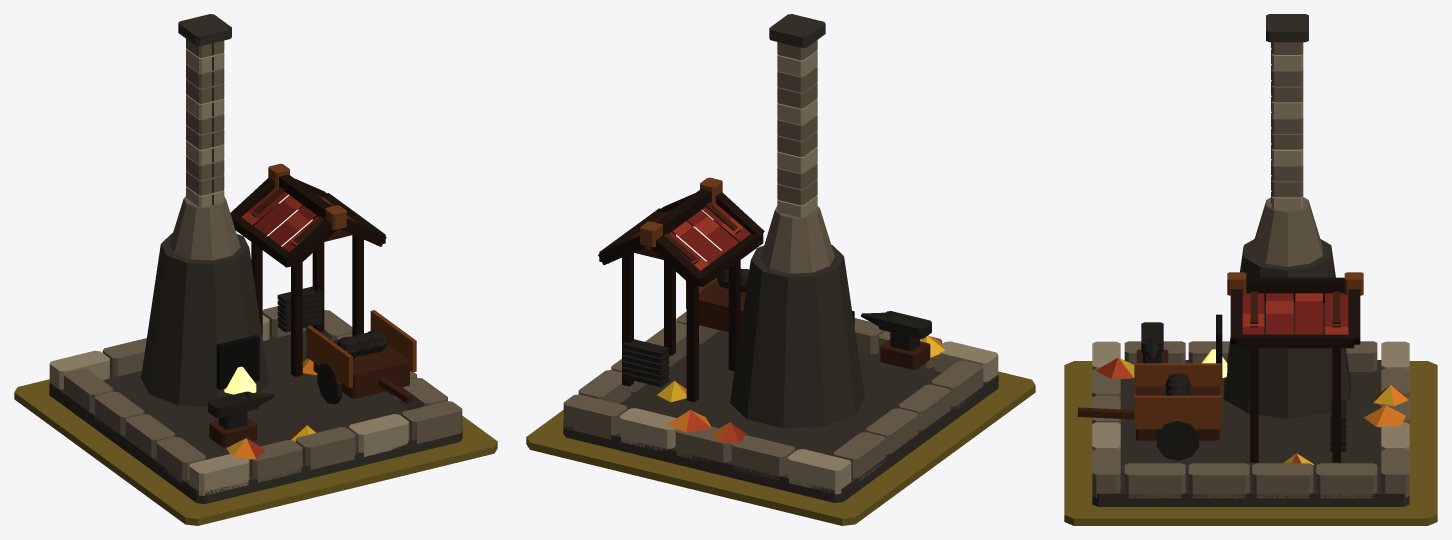
The model's file is smeltery_t6.glb.
The picture shows the model from 3 angles, left to right: view 1: azimuth 30°, elevation 25°; view 2: azimuth 150°, elevation 25°; view 3: azimuth 270°, elevation 25°; orthographic projection. The views are drawn at different scales.
Visible parts, largest first — view 1: MMR | smeltery | T06 Architecture.001, MMR | smeltery | Tier 06 Ground.001, MMR | smeltery | T06 Autumn Dressing.001, MMR | smeltery | T06 Flame Glow.001; view 2: MMR | smeltery | T06 Architecture.001, MMR | smeltery | Tier 06 Ground.001, MMR | smeltery | T06 Autumn Dressing.001; view 3: MMR | smeltery | T06 Architecture.001, MMR | smeltery | Tier 06 Ground.001, MMR | smeltery | T06 Autumn Dressing.001.
Boxes of the visible parts, bbox=[...] form: MMR | smeltery | T06 Architecture.001: bbox=[49, 14, 462, 503]; MMR | smeltery | Tier 06 Ground.001: bbox=[14, 379, 497, 525]; MMR | smeltery | T06 Autumn Dressing.001: bbox=[226, 358, 317, 459]; MMR | smeltery | T06 Flame Glow.001: bbox=[224, 366, 256, 394]; MMR | smeltery | T06 Architecture.001: bbox=[563, 14, 998, 502]; MMR | smeltery | Tier 06 Ground.001: bbox=[526, 371, 1035, 525]; MMR | smeltery | T06 Autumn Dressing.001: bbox=[657, 335, 945, 443]; MMR | smeltery | T06 Architecture.001: bbox=[1077, 14, 1409, 506]; MMR | smeltery | Tier 06 Ground.001: bbox=[1064, 361, 1437, 525]; MMR | smeltery | T06 Autumn Dressing.001: bbox=[1096, 357, 1408, 464].
Size of the model in its own units: 2.35 by 2.83 by 2.35.
2 materials, 1 textured.
